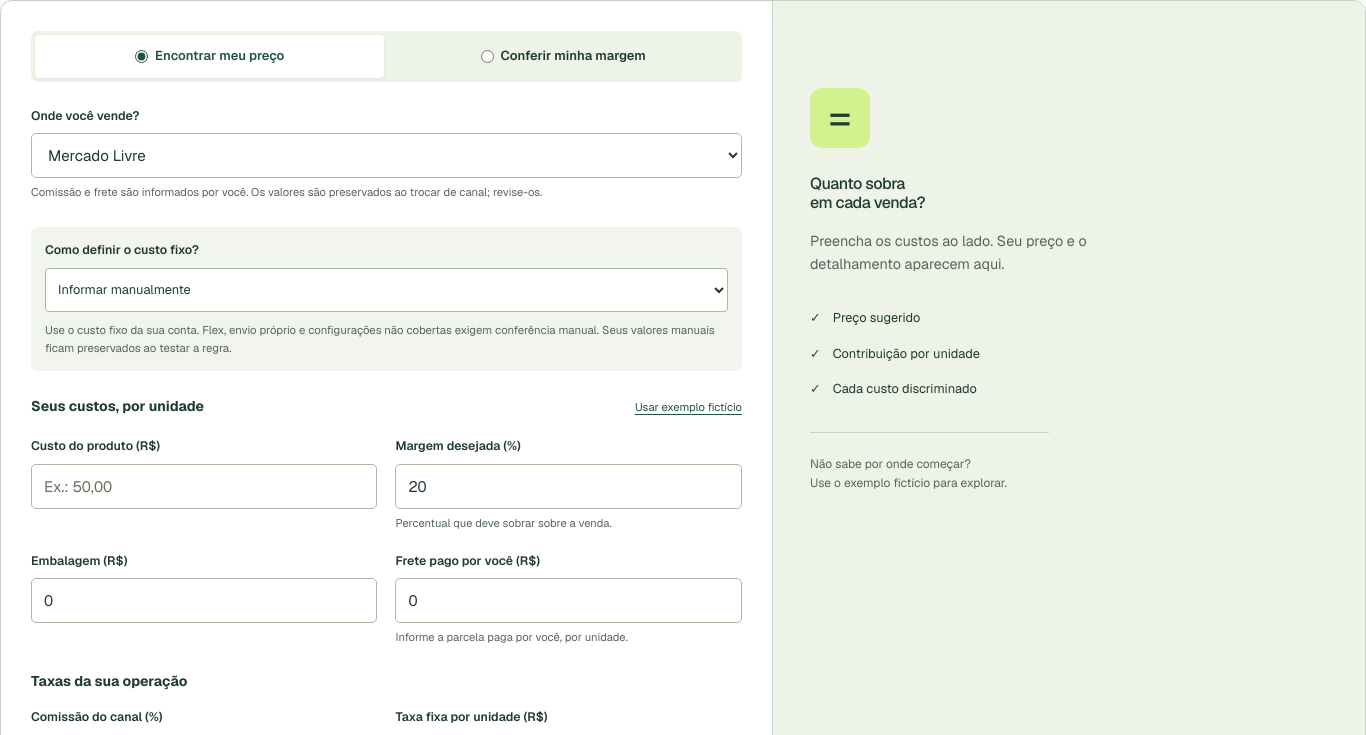
Test: Calculator › edit_costAfterCalculation_invalidatesResultAndExport
Click the button "Usar exemplo fictício": point(688, 408) [635,395,742,421]
(page scrolled)
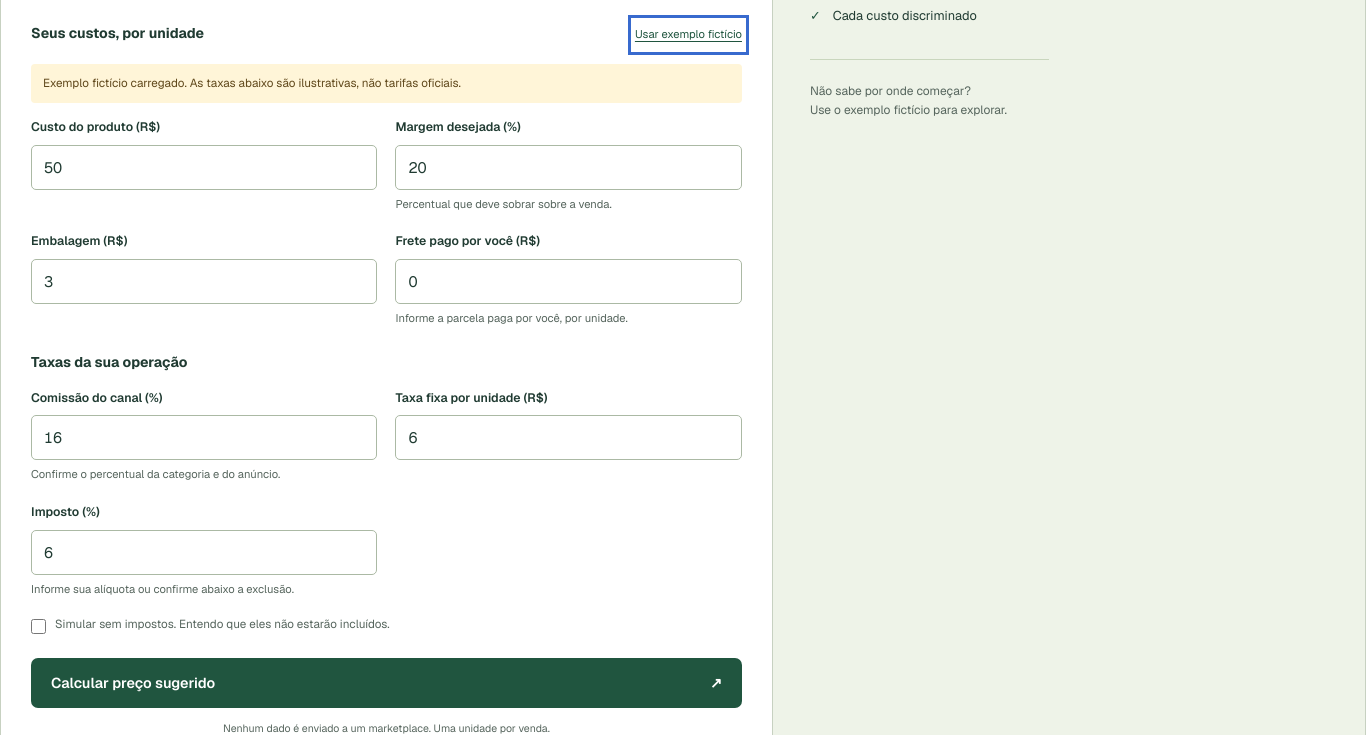
Click the button "Calcular preço sugerido ↗": point(133, 683) [31,658,742,708]
(page scrolled)
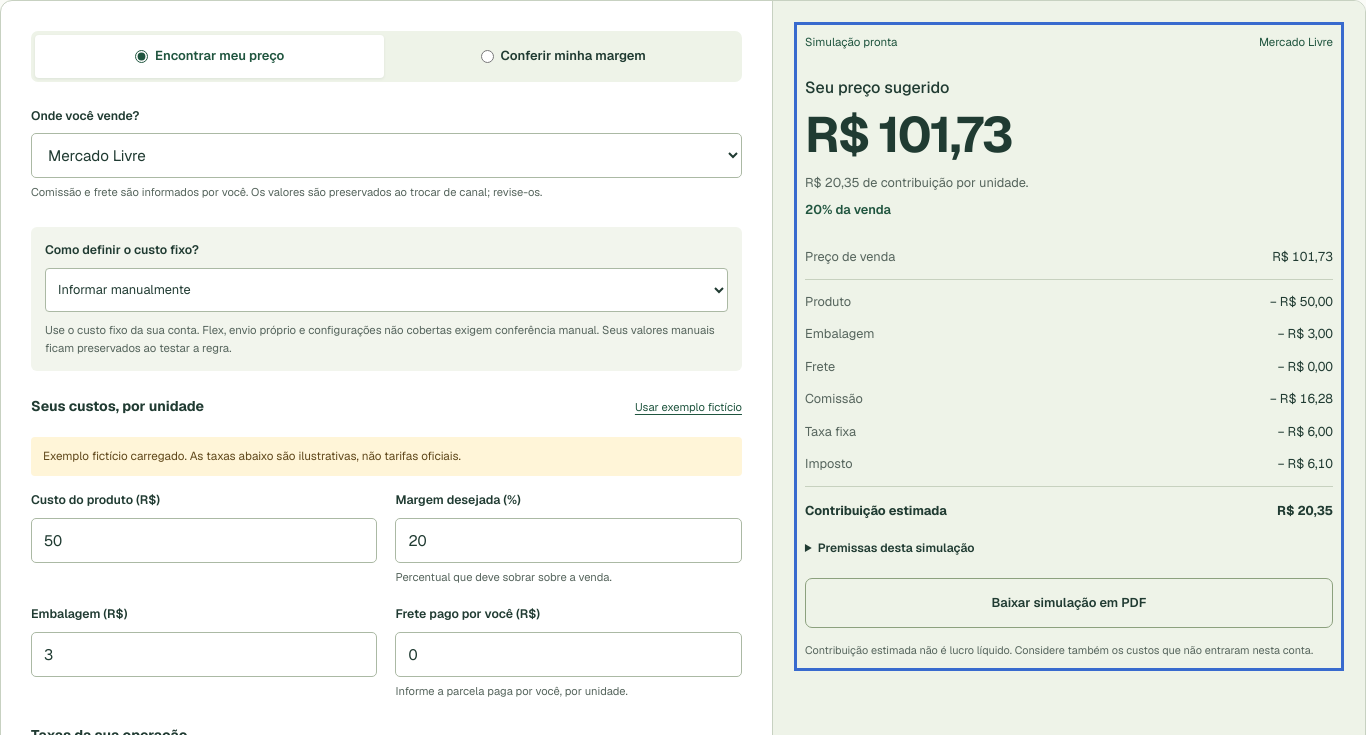
In the field labelled "Custo do produto (R$)": point(204, 540) [31,518,378,562], type "1"
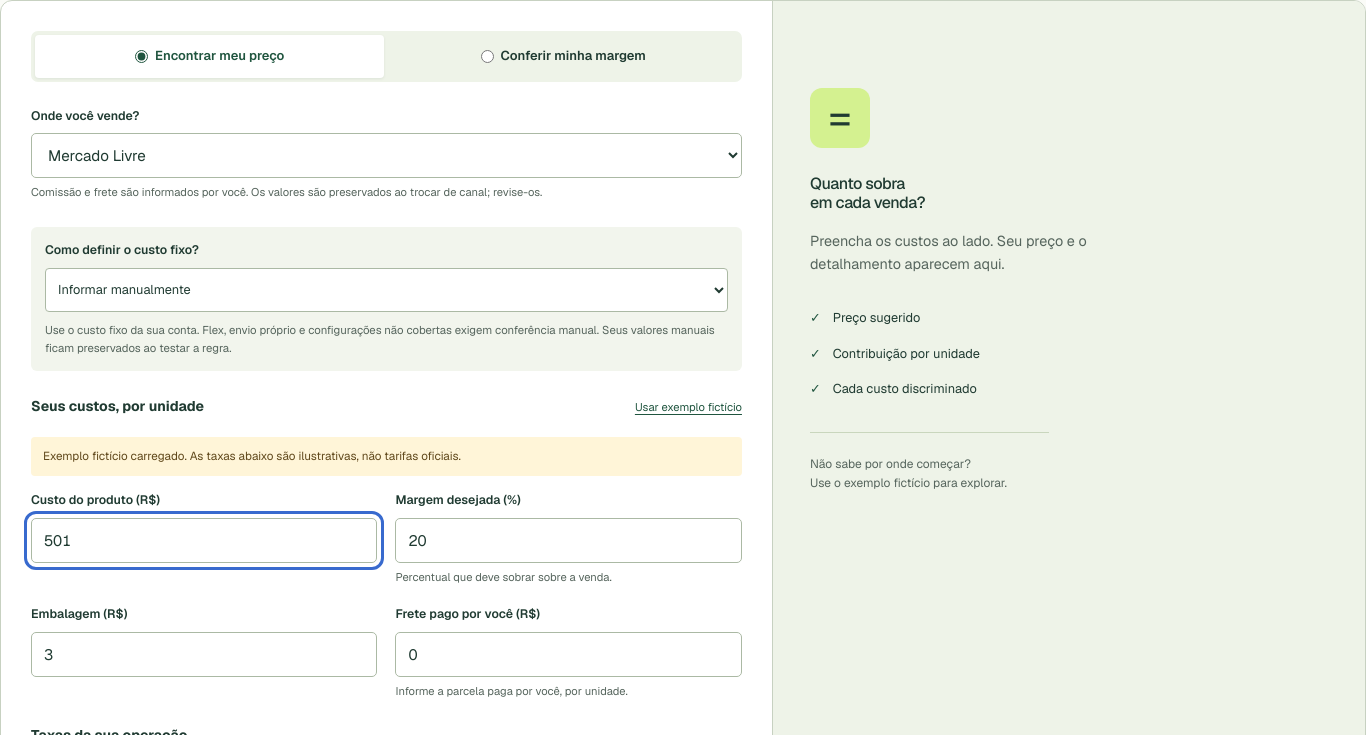
Expected: the text "Simulação pronta" is gone
Expected: the button "Baixar simulação" is gone
